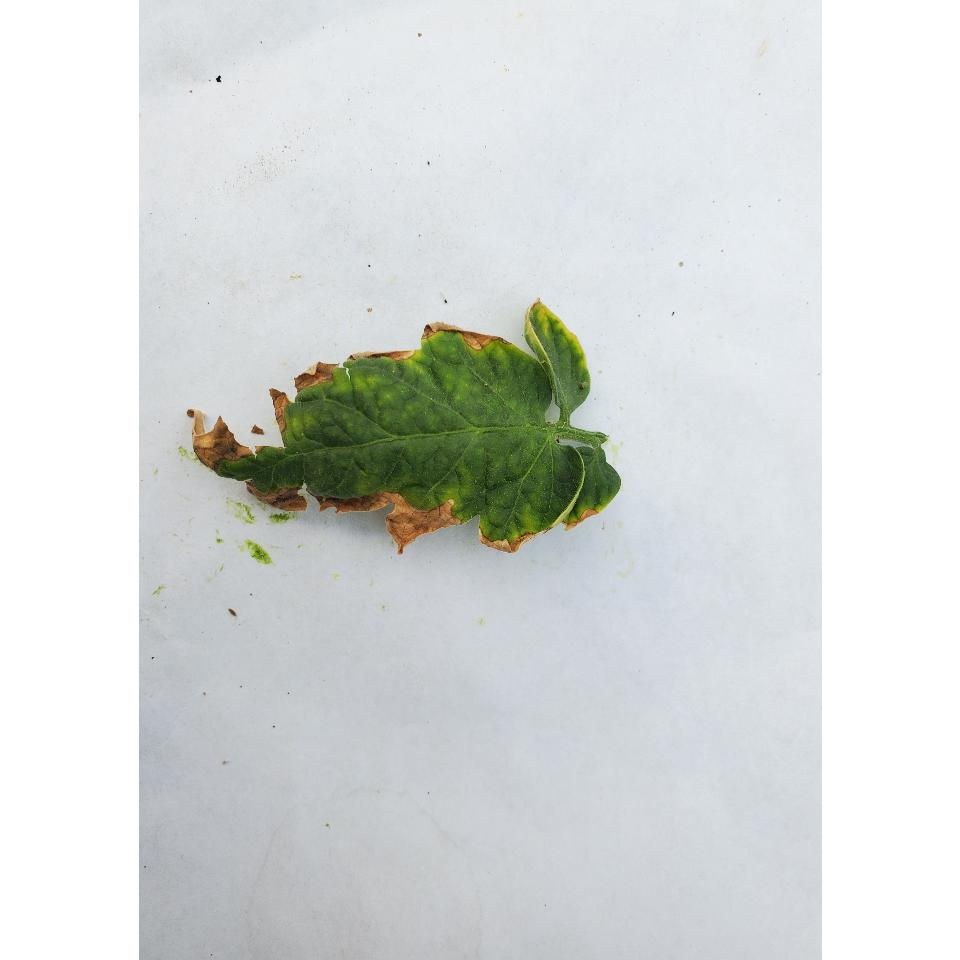tomato_bacterial_blight: (176, 349, 634, 558)
